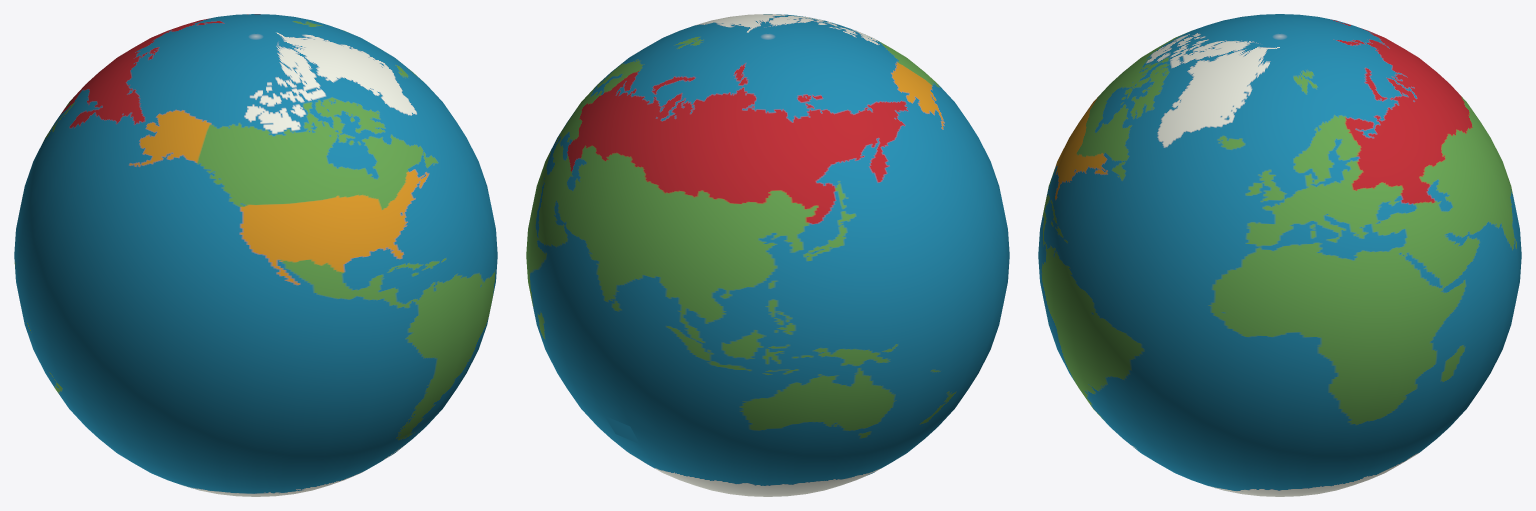
The model's file is globe.dae.
3 views of the same model, side by side, from view 1: azimuth 30°, elevation 25°; view 2: azimuth 150°, elevation 25°; view 3: azimuth 270°, elevation 25° (orthographic).
Parts seen in each view (by area): view 1: Sphere; view 2: Sphere; view 3: Sphere.
Part boxes in pixels (left/top/right/bottom): Sphere: left=14, top=14, right=497, bottom=496; Sphere: left=526, top=14, right=1009, bottom=496; Sphere: left=1038, top=14, right=1521, bottom=496.
Bounding box in the file's own units: 2 × 2 × 2.
1 material, 1 textured.
